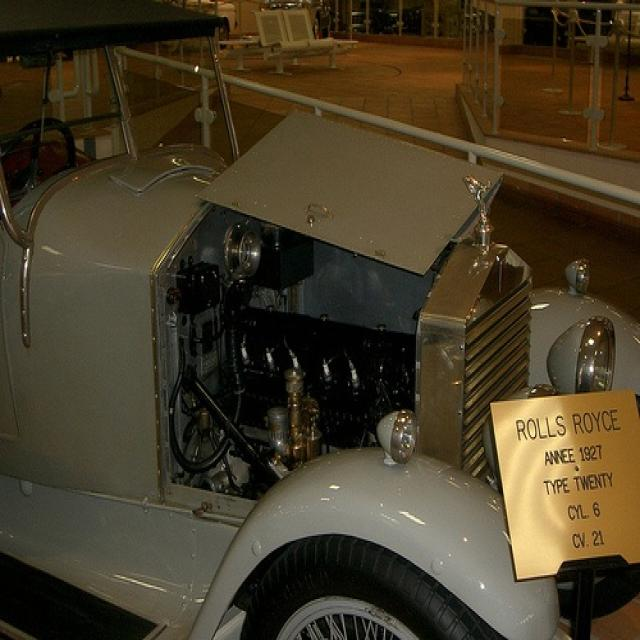car: (1, 2, 638, 638)
